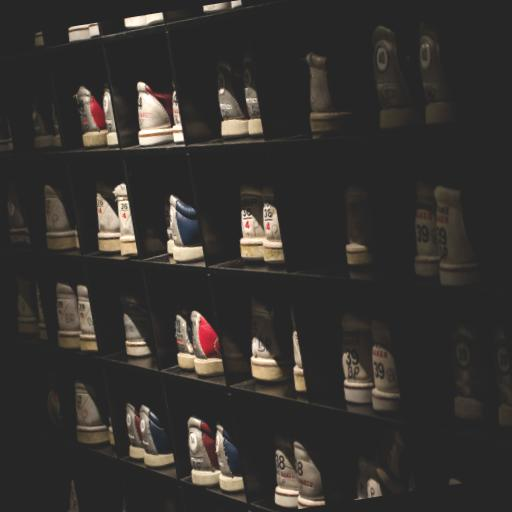shoe: (373, 26, 421, 129), (434, 186, 480, 285), (306, 53, 353, 134), (419, 23, 454, 124), (251, 298, 293, 381), (453, 326, 486, 420), (342, 314, 374, 403), (371, 320, 400, 411), (217, 62, 250, 137), (415, 182, 440, 277), (345, 186, 375, 265), (137, 82, 173, 146), (170, 195, 204, 262), (189, 311, 223, 376), (188, 417, 220, 486), (44, 185, 77, 250), (75, 381, 109, 444), (140, 405, 174, 467), (294, 442, 325, 508), (240, 185, 266, 260), (76, 87, 107, 147), (121, 296, 152, 356), (216, 425, 244, 491), (96, 181, 121, 252), (262, 187, 285, 263), (114, 183, 138, 255), (275, 436, 299, 508), (494, 327, 511, 427), (56, 283, 81, 349), (244, 56, 263, 135), (77, 285, 97, 351), (7, 183, 29, 243), (17, 276, 39, 334), (175, 310, 195, 370), (31, 99, 54, 149), (126, 403, 145, 459), (103, 84, 118, 146), (293, 331, 306, 392), (36, 281, 48, 340), (172, 90, 184, 143), (356, 456, 368, 499), (52, 103, 62, 147), (69, 24, 90, 41), (68, 481, 79, 511), (204, 1, 231, 13), (0, 117, 9, 151), (125, 15, 147, 28), (145, 12, 164, 25), (35, 31, 44, 47), (89, 23, 99, 37), (231, 0, 242, 8), (123, 500, 127, 511)
